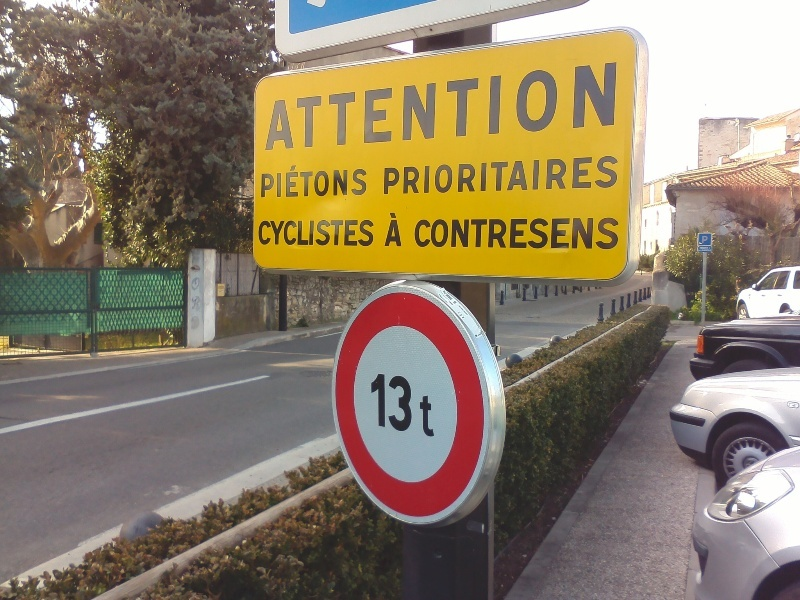text: (273, 59, 288, 152), (289, 59, 304, 152), (305, 59, 320, 152), (321, 59, 336, 152), (337, 59, 352, 152), (353, 59, 368, 152), (369, 59, 384, 152), (385, 59, 400, 152), (401, 59, 416, 152), (417, 59, 432, 152), (433, 59, 448, 152), (449, 59, 464, 152), (465, 59, 480, 152), (481, 59, 496, 152), (497, 59, 512, 152), (513, 59, 528, 152), (529, 59, 544, 152), (545, 59, 560, 152), (561, 59, 576, 152), (577, 59, 592, 152), (593, 59, 608, 152), (609, 59, 622, 152), (369, 367, 384, 439), (385, 367, 400, 439), (401, 367, 416, 439), (417, 396, 432, 438), (385, 155, 400, 196), (401, 155, 416, 196), (417, 155, 432, 196), (433, 155, 448, 196), (449, 155, 464, 196), (465, 155, 480, 196), (481, 155, 496, 196), (497, 155, 512, 196), (513, 155, 528, 196), (529, 155, 544, 196), (545, 155, 560, 196), (561, 155, 576, 196), (577, 155, 592, 196), (593, 155, 608, 196), (353, 163, 369, 199), (273, 163, 288, 199), (289, 163, 304, 199), (305, 163, 320, 199), (321, 163, 336, 199), (337, 163, 352, 199), (385, 213, 400, 247), (417, 217, 432, 250), (433, 217, 448, 250), (449, 217, 464, 250), (465, 217, 480, 250), (481, 217, 496, 250), (497, 217, 512, 250), (513, 217, 528, 250), (529, 217, 544, 250), (545, 217, 560, 250), (561, 217, 576, 250), (577, 217, 592, 250), (593, 217, 608, 250), (609, 155, 619, 196), (273, 220, 288, 247), (289, 220, 304, 247), (305, 220, 320, 247), (321, 220, 336, 247), (337, 220, 352, 247), (353, 220, 368, 247), (258, 220, 272, 247), (609, 217, 620, 250), (262, 163, 272, 199), (269, 59, 272, 152), (433, 396, 438, 438), (369, 220, 375, 247), (417, 367, 418, 439), (705, 247, 712, 252), (401, 213, 402, 247), (415, 217, 416, 250), (701, 235, 704, 244), (705, 235, 708, 244), (699, 247, 704, 252)
